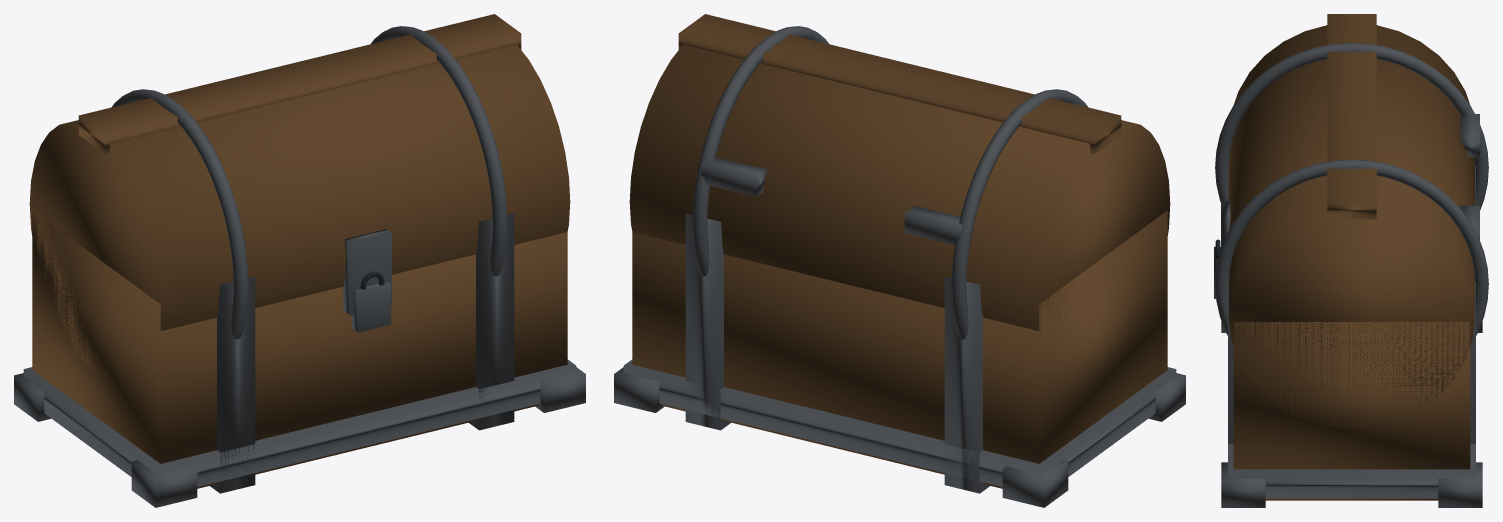
The model's file is 3D模型 props_chest.glb.
3 renders of one model, left to right at view 1: azimuth 30°, elevation 25°; view 2: azimuth 150°, elevation 25°; view 3: azimuth 270°, elevation 25°, orthographic. The views are drawn at different scales.
Parts seen in each view (by area): view 1: part_lid, part_body, part_base_band, part_ridge, part_strap_0, part_strap_1, Torus, Torus.001, part_hasp, part_foot_3, part_lock_body, part_foot_2 (+1 smaller); view 2: part_lid, part_body, part_base_band, part_ridge, part_strap_0, part_strap_1, Torus, Torus.001, part_foot_1, part_hinge_1, part_hinge_0, part_foot_0 (+1 smaller); view 3: part_lid, part_body, part_ridge, part_base_band, Torus.001, Torus, part_foot_0, part_foot_2, part_strap_1, part_hinge_0, part_hinge_1, part_hasp.
Boxes of the visible parts, x1=… form: part_lid: x1=29, y1=44, x2=570, y2=379; part_body: x1=32, y1=210, x2=567, y2=488; part_base_band: x1=23, y1=359, x2=576, y2=486; part_ridge: x1=78, y1=14, x2=521, y2=154; part_strap_0: x1=210, y1=276, x2=255, y2=493; part_strap_1: x1=469, y1=213, x2=514, y2=430; Torus: x1=111, y1=89, x2=248, y2=339; Torus.001: x1=371, y1=26, x2=507, y2=276; part_hasp: x1=343, y1=229, x2=391, y2=315; part_foot_3: x1=131, y1=460, x2=197, y2=507; part_lock_body: x1=351, y1=281, x2=391, y2=332; part_foot_2: x1=535, y1=367, x2=585, y2=412; part_lid: x1=629, y1=44, x2=1170, y2=360; part_body: x1=632, y1=210, x2=1167, y2=488; part_base_band: x1=623, y1=359, x2=1176, y2=486; part_ridge: x1=678, y1=14, x2=1121, y2=154; part_strap_0: x1=944, y1=276, x2=989, y2=493; part_strap_1: x1=685, y1=213, x2=730, y2=430; Torus: x1=951, y1=89, x2=1088, y2=339; Torus.001: x1=692, y1=26, x2=828, y2=276; part_foot_1: x1=1002, y1=460, x2=1068, y2=507; part_hinge_1: x1=701, y1=157, x2=767, y2=196; part_hinge_0: x1=904, y1=206, x2=962, y2=245; part_foot_0: x1=614, y1=367, x2=664, y2=412; part_lid: x1=1229, y1=25, x2=1474, y2=428; part_body: x1=1233, y1=322, x2=1470, y2=500; part_ridge: x1=1327, y1=14, x2=1376, y2=219; part_base_band: x1=1228, y1=444, x2=1475, y2=498; Torus.001: x1=1215, y1=159, x2=1488, y2=335; Torus: x1=1215, y1=43, x2=1488, y2=210; part_foot_0: x1=1438, y1=462, x2=1482, y2=507; part_foot_2: x1=1221, y1=462, x2=1265, y2=507; part_strap_1: x1=1228, y1=282, x2=1475, y2=443; part_hinge_0: x1=1460, y1=114, x2=1479, y2=156; part_hinge_1: x1=1460, y1=205, x2=1479, y2=248; part_hasp: x1=1221, y1=201, x2=1230, y2=247.
Bounding box in the file's own units: 0.93 × 0.703 × 0.558.
